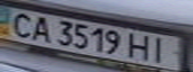1: (87, 25, 106, 53)
3: (51, 18, 75, 47)
5: (69, 21, 90, 51)
9: (103, 27, 127, 56)
A: (27, 14, 54, 44)
C: (3, 10, 39, 38)
H: (124, 30, 154, 61)
I: (145, 35, 175, 64)
